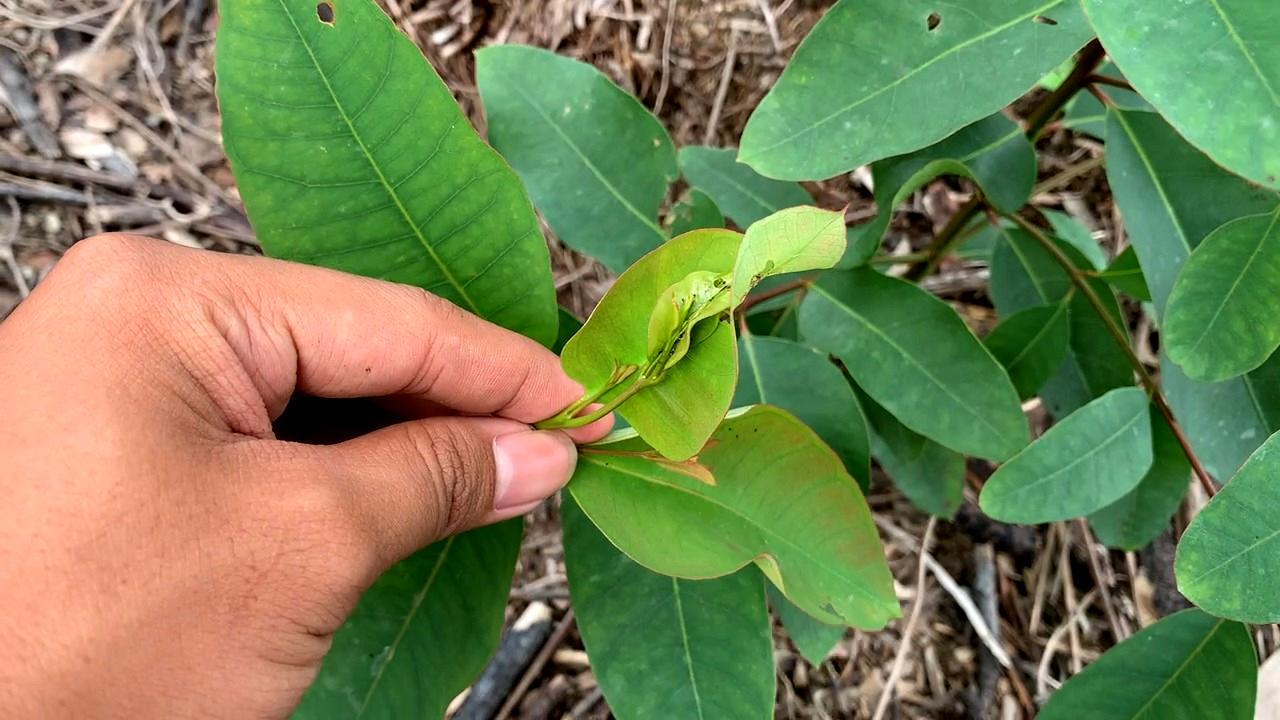Leaf Roller - Leaf: (547, 182, 870, 469)
